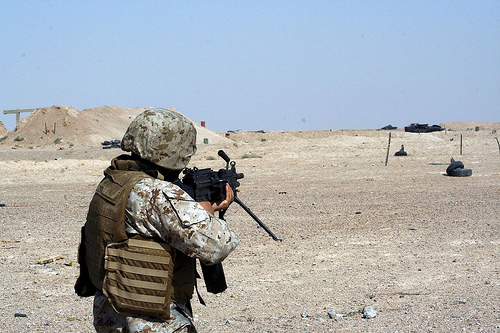rifle in hand: (173, 159, 279, 266)
